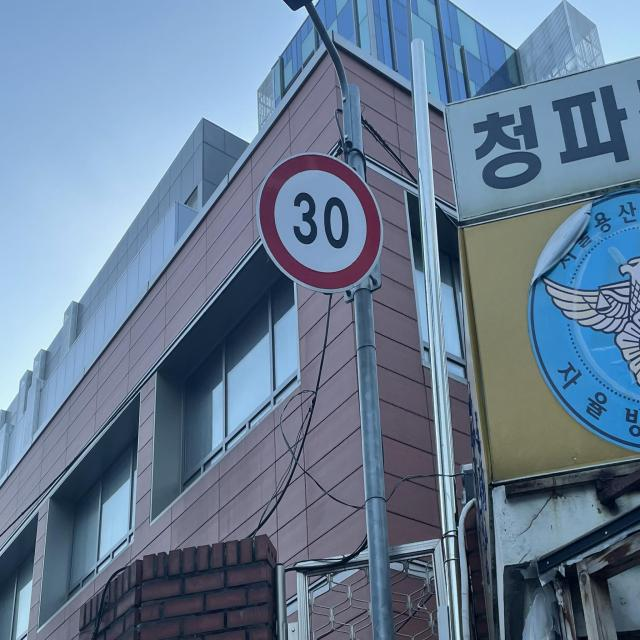speed_limit_30: (255, 152, 383, 291)
